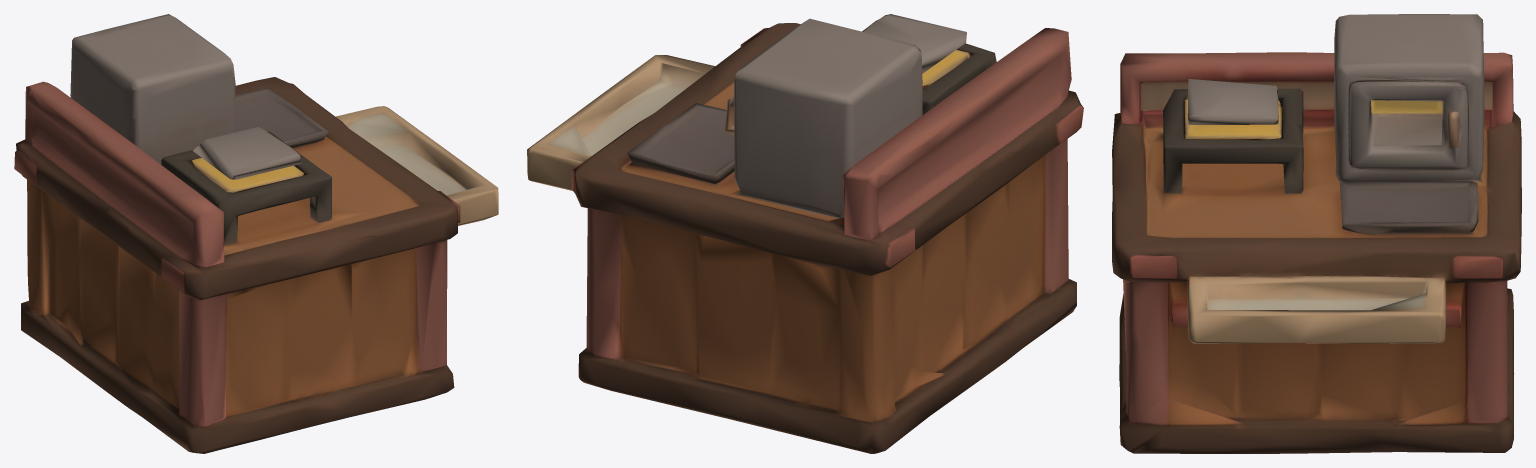
The model's file is TW_사물_s3_dessert_stand_pineapplecake.glb.
3 renders of one model, left to right at view 1: azimuth 30°, elevation 25°; view 2: azimuth 150°, elevation 25°; view 3: azimuth 270°, elevation 25°, orthographic. The views are drawn at different scales.
Visible parts, largest first — view 1: tripo_node_da81d25d-2a8e-4541-8339-b6c5b444ad5f; view 2: tripo_node_da81d25d-2a8e-4541-8339-b6c5b444ad5f; view 3: tripo_node_da81d25d-2a8e-4541-8339-b6c5b444ad5f.
Boxes of the visible parts, x1=… form: tripo_node_da81d25d-2a8e-4541-8339-b6c5b444ad5f: x1=14, y1=14, x2=498, y2=453; tripo_node_da81d25d-2a8e-4541-8339-b6c5b444ad5f: x1=527, y1=14, x2=1083, y2=453; tripo_node_da81d25d-2a8e-4541-8339-b6c5b444ad5f: x1=1112, y1=14, x2=1521, y2=453.
Bounding box in the file's own units: 1 × 0.8105 × 0.9302.
1 material, 1 textured.
